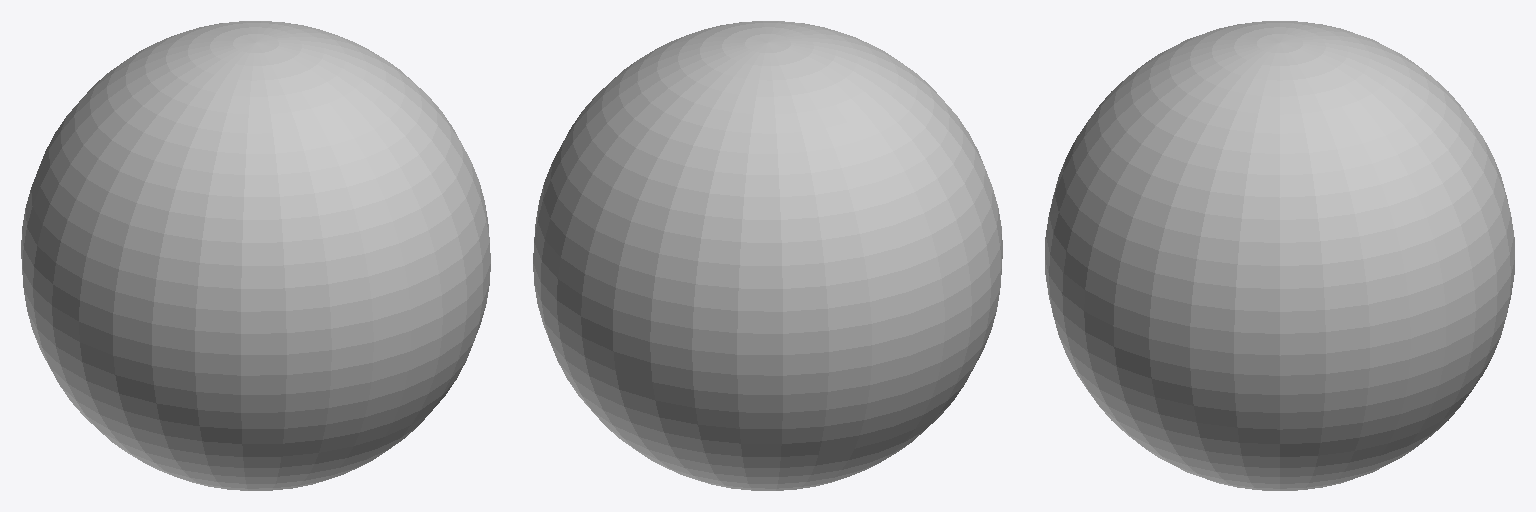
Rendered from ball2.obj.
3 renders of one model, left to right at view 1: azimuth 30°, elevation 25°; view 2: azimuth 150°, elevation 25°; view 3: azimuth 270°, elevation 25°, orthographic.
Bounding box in the file's own units: 0.245 × 0.245 × 0.245.